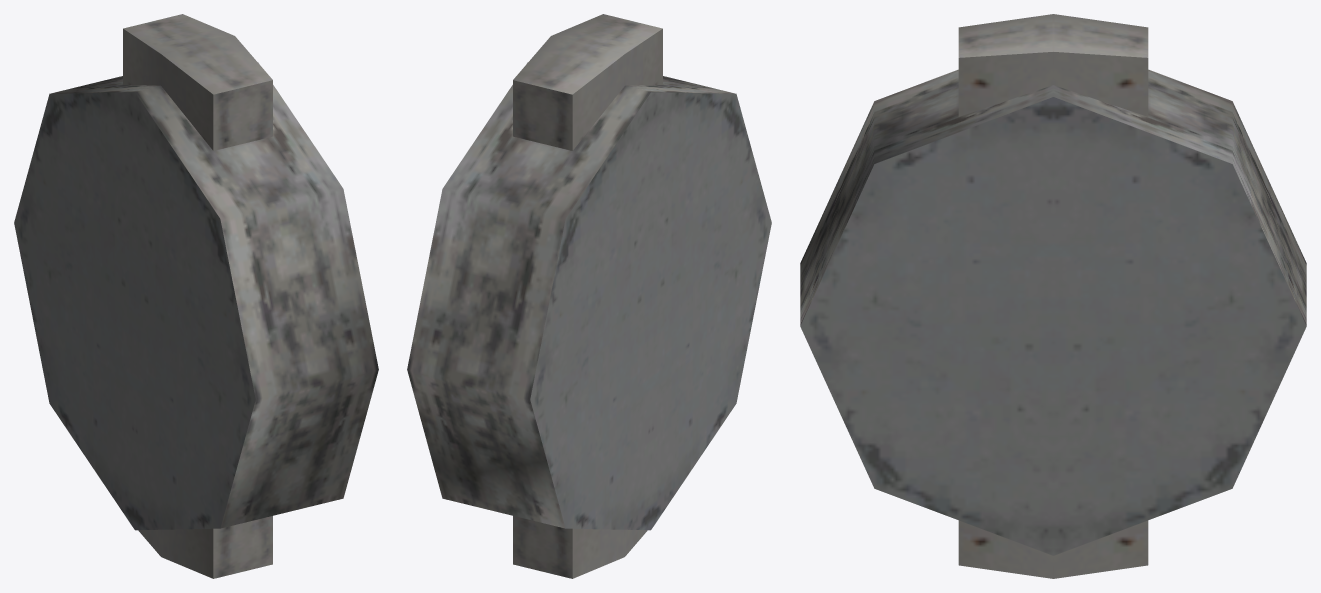
The model's file is com_pipe_4_coupling_ceramic_LOD1.obj.
3 renders of one model, left to right at view 1: azimuth 30°, elevation 25°; view 2: azimuth 150°, elevation 25°; view 3: azimuth 270°, elevation 25°, orthographic. The views are drawn at different scales.
Visible parts, largest first — view 1: mtl_pipes_ceramic; view 2: mtl_pipes_ceramic; view 3: mtl_pipes_ceramic.
Boxes of the visible parts, x1,y1,x2,y2 form: mtl_pipes_ceramic: (14, 14, 378, 578); mtl_pipes_ceramic: (407, 14, 771, 578); mtl_pipes_ceramic: (800, 14, 1306, 578).
Bounding box in the file's own units: 6.52 × 25.44 × 22.15.
